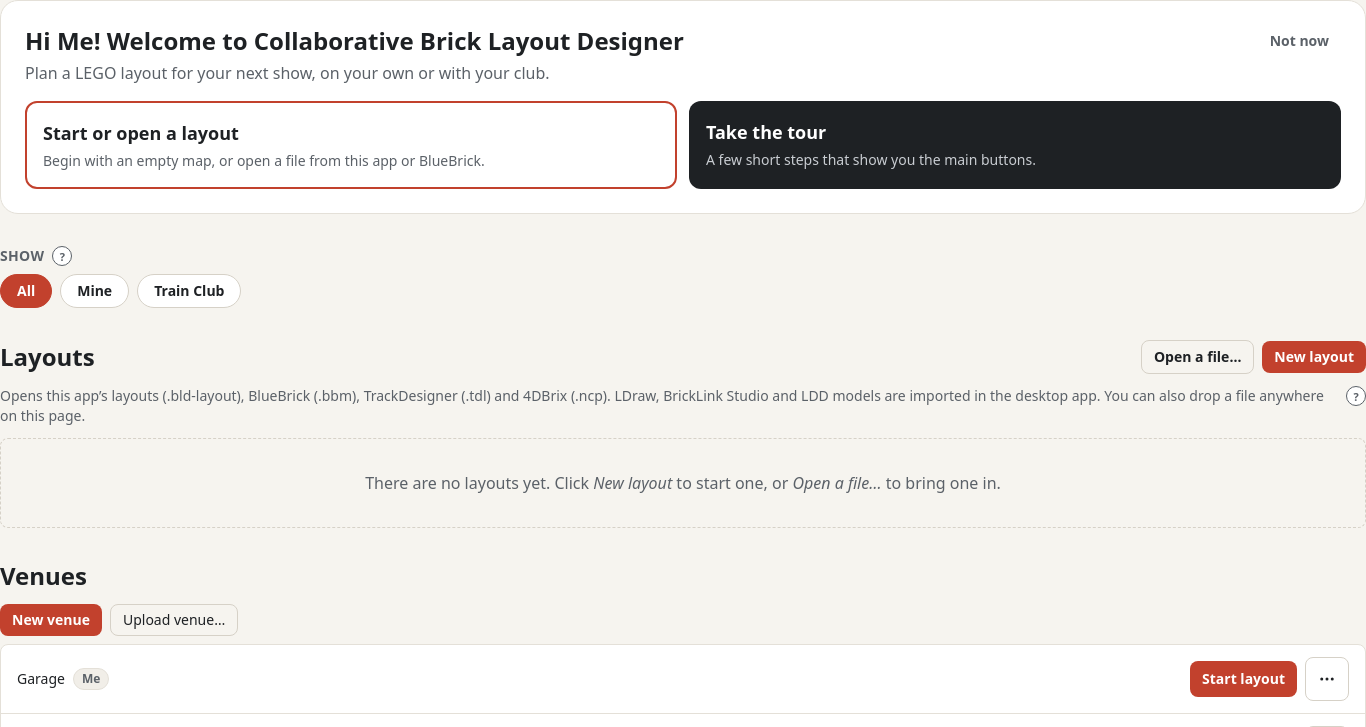
VenueList › opens the new-layout dialog when Start layout is clicked on the home page itself
Click the link "Start layout" in the row of "Garage".
click(1244, 679)  # box left=1190, top=661, right=1297, bottom=697
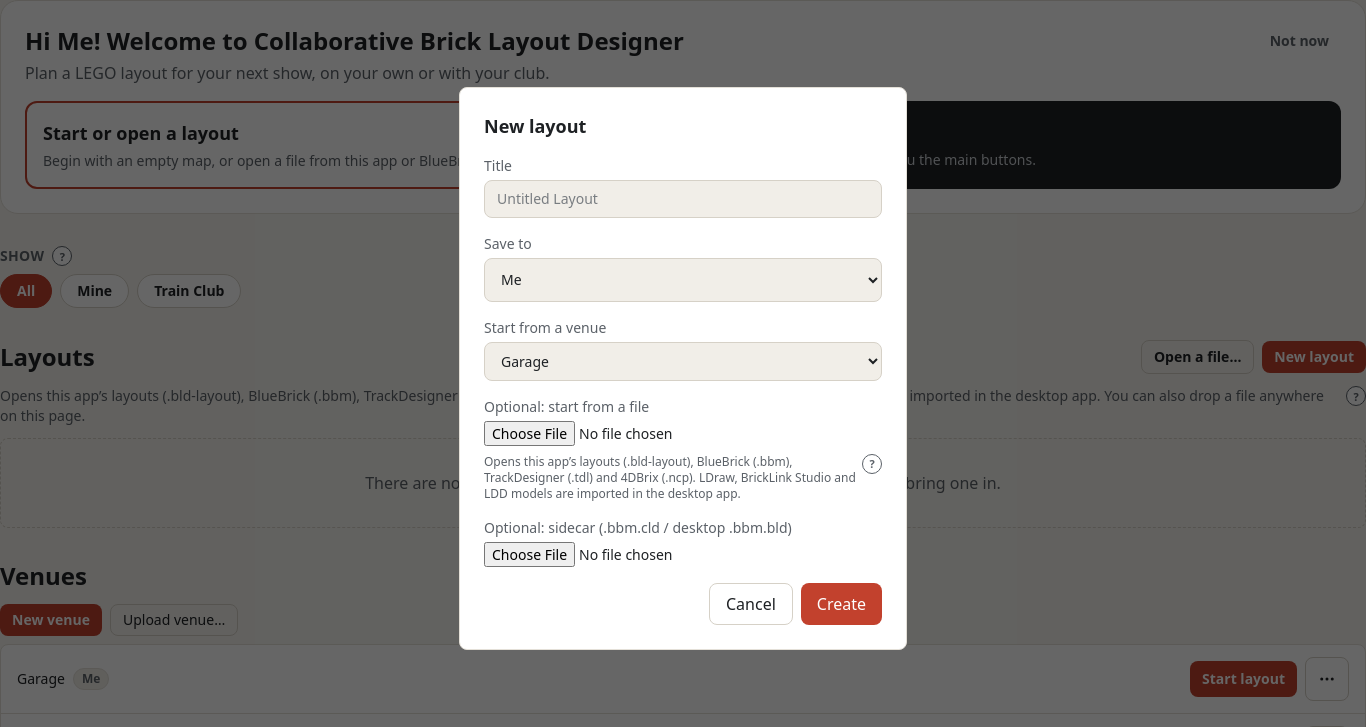
Check: the dialog is shown, box left=459, top=86, right=907, bottom=650
